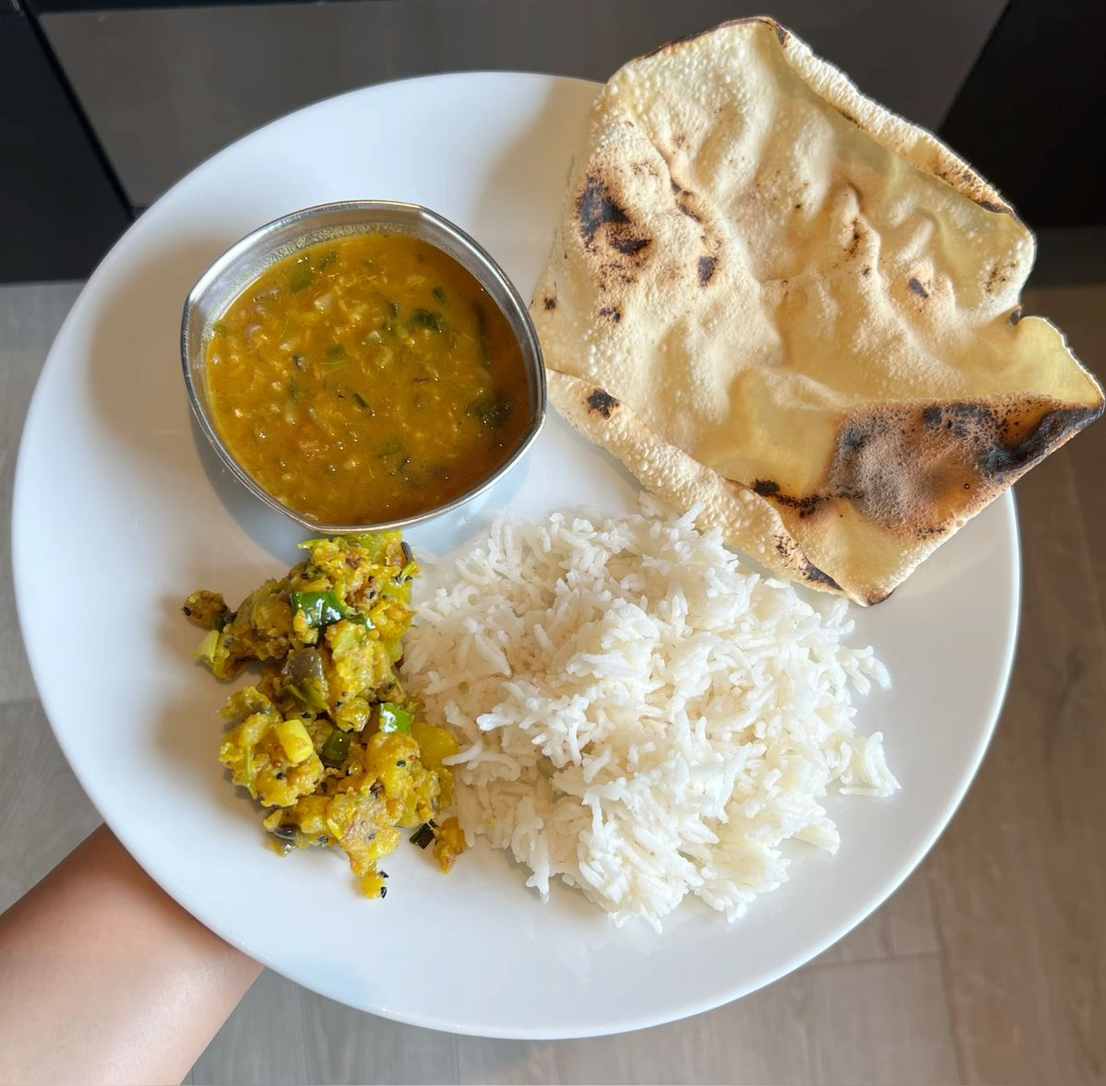bhat: (391, 527, 874, 936)
dal: (223, 239, 513, 529)
sabji: (189, 535, 403, 875)
